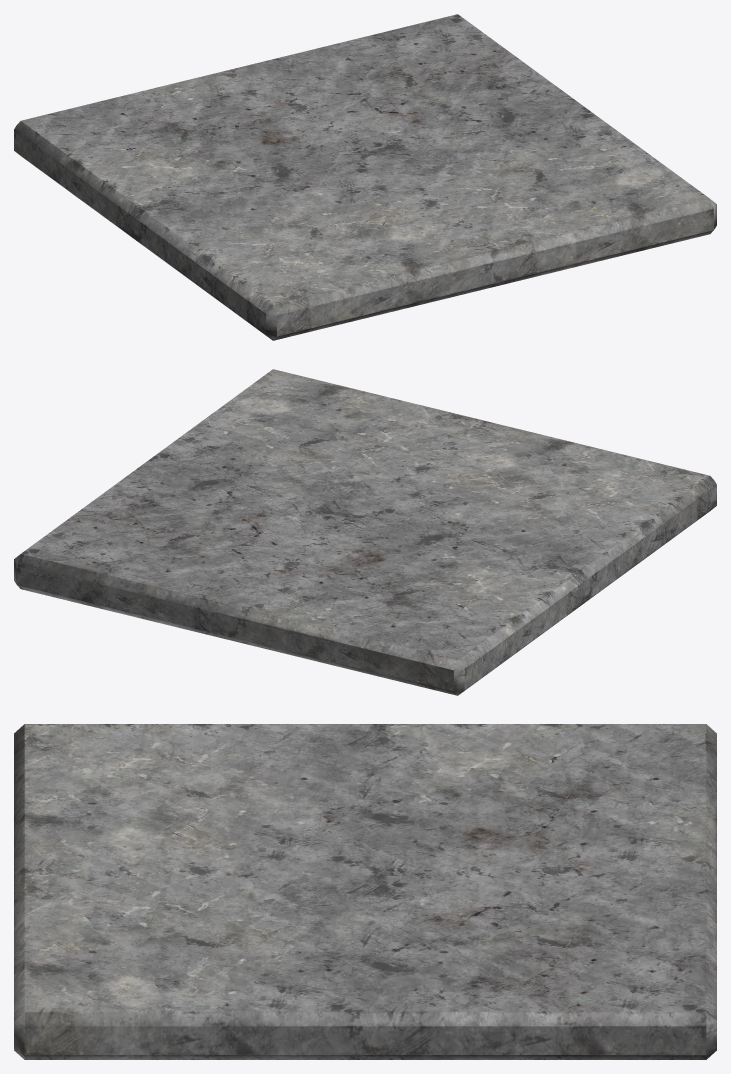
File: rusted_floor.glb
The picture shows the model from 3 angles, top to bottom: view 1: azimuth 30°, elevation 25°; view 2: azimuth 150°, elevation 25°; view 3: azimuth 270°, elevation 25°; orthographic projection. The views are drawn at different scales.
Parts seen in each view (by area): view 1: Floor; view 2: Floor; view 3: Floor.
Part boxes in pixels (<box>): Floor: <box>14,14,716,340</box>; Floor: <box>14,369,716,695</box>; Floor: <box>14,724,716,1059</box>.
Size of the model in its own units: 2 by 0.15 by 2.
Materials: 1 (1 with a texture image).
